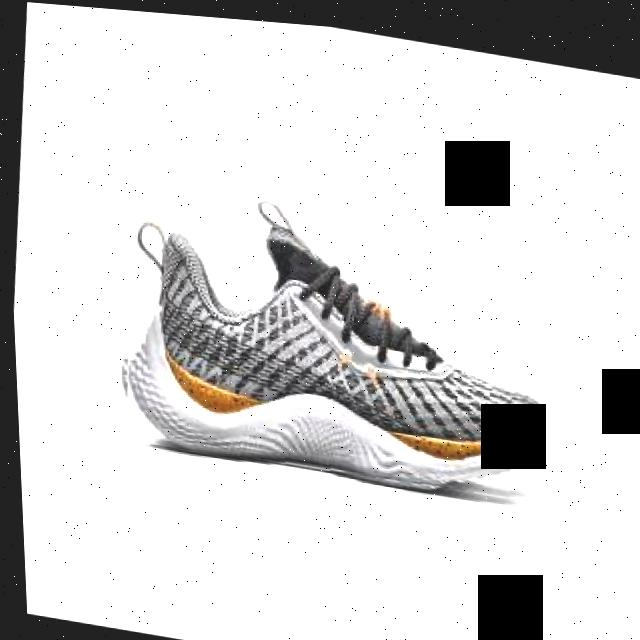shoe: (103, 176, 557, 503)
